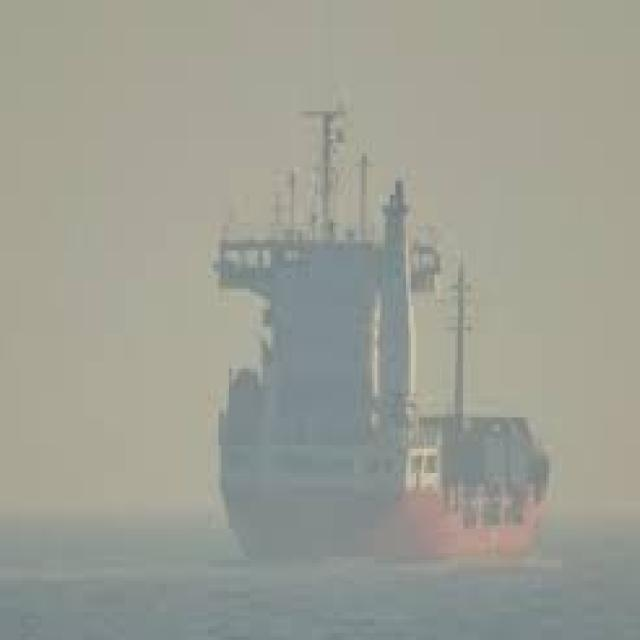cargoship: (214, 114, 549, 562)
